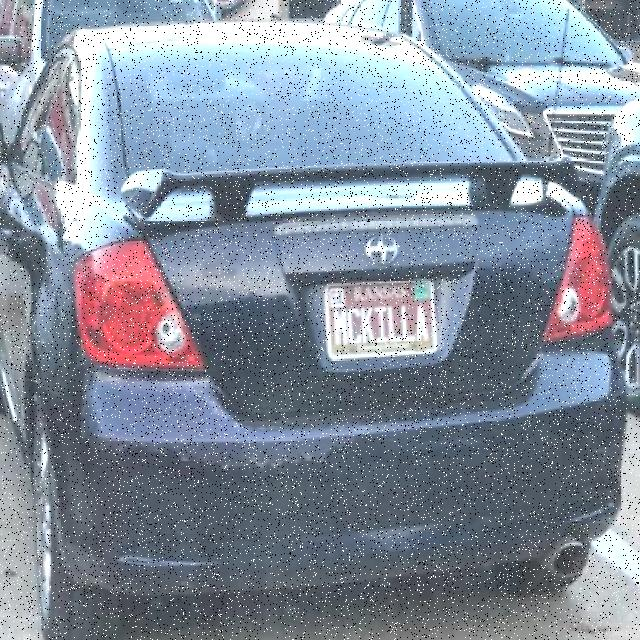licenseplate: (324, 278, 438, 361)
